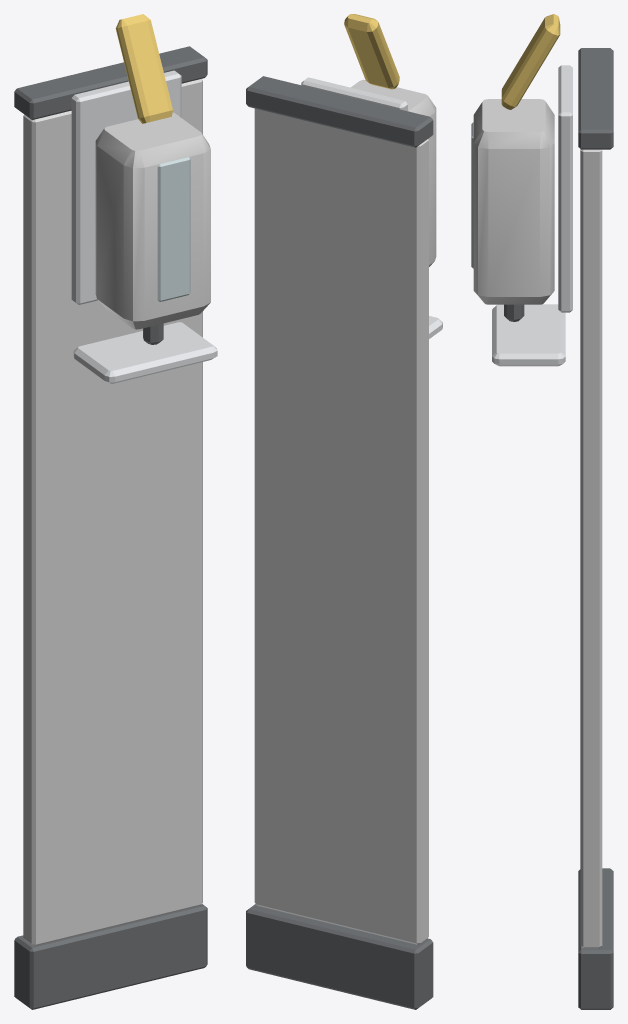
Rendered from clinic-and-veterinary-practice-hand-gel-dispenser-900cf88f__16743.glb.
3 views of the same model, side by side, from view 1: azimuth 30°, elevation 25°; view 2: azimuth 150°, elevation 25°; view 3: azimuth 270°, elevation 25° (orthographic). The views are drawn at different scales.
Visible parts, largest first — view 1: hand-gel-dispenser; view 2: hand-gel-dispenser; view 3: hand-gel-dispenser.
Boxes of the visible parts, x1,y1,x2,y2 form: hand-gel-dispenser: [14, 14, 217, 1009]; hand-gel-dispenser: [246, 14, 442, 1009]; hand-gel-dispenser: [471, 14, 613, 1009].
Bounding box in the file's own units: 0.2699 × 1.42 × 0.193.
